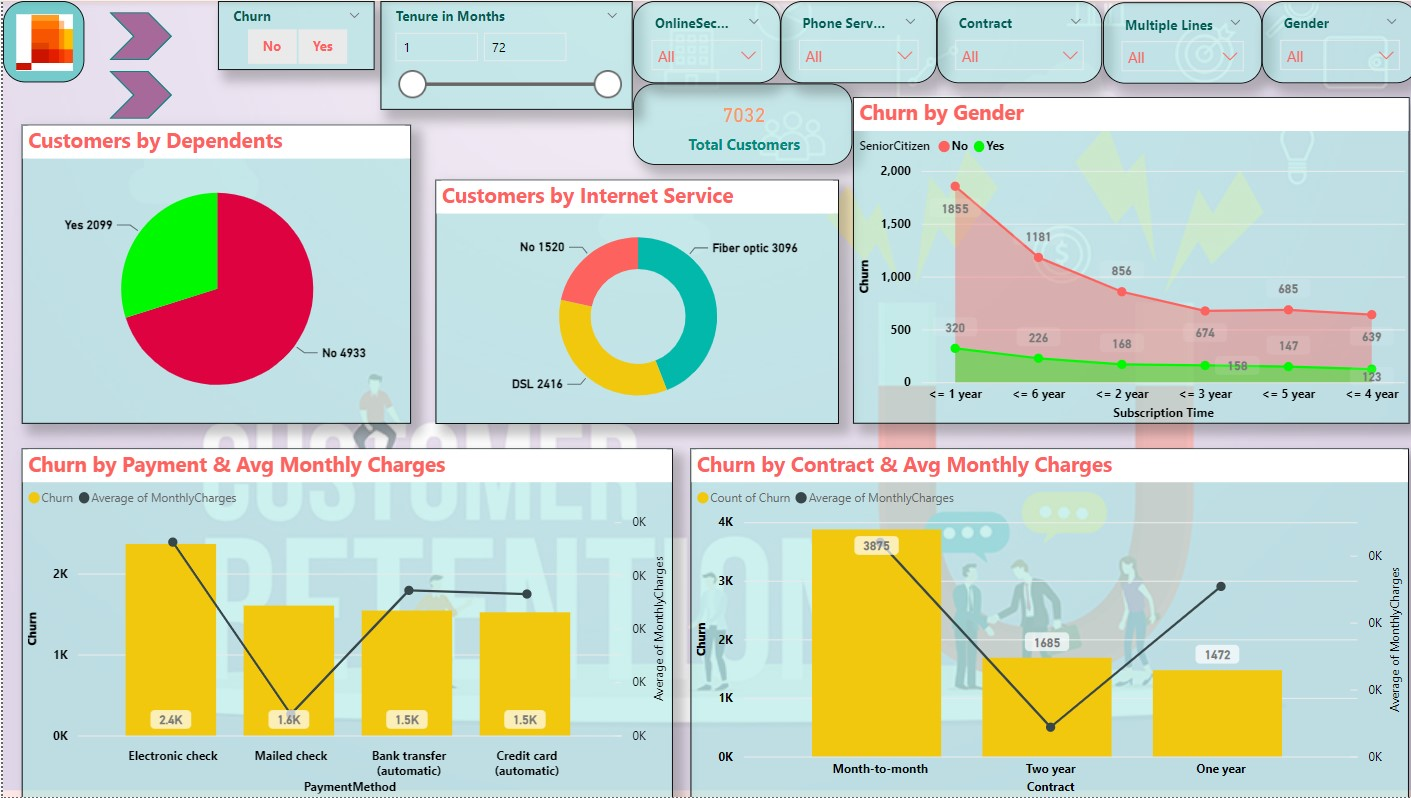

This screenshot's page, from the dashboard's own definition file:
{"tool":"powerbi","page":{"name":"Customer Risk Analysis","canvas":[1280,720],"ordinal":2},"visuals":[{"type":"card","fields":{"Values":["Measure Table.Total Customers"]},"box":[569.4,74.4,198.7,73.2],"z":0},{"type":"slicer","fields":{"Values":["01 Churn-Dataset.Churn"]},"box":[194,0,141.8,62.7],"z":1000},{"type":"slicer","fields":{"Values":["01 Churn-Dataset.tenure"]},"box":[341.6,0,227.7,98.8],"z":2000},{"type":"slicer","fields":{"Values":["01 Churn-Dataset.OnlineSecurity"]},"box":[569.4,0,133.6,74.4],"z":3000},{"type":"slicer","fields":{"Values":["01 Churn-Dataset.PhoneService"]},"box":[703,0,141.8,74.4],"z":4000},{"type":"slicer","fields":{"Values":["01 Churn-Dataset.Contract"]},"box":[844.7,0,149.9,74.4],"z":5000},{"type":"slicer","fields":{"Values":["01 Churn-Dataset.MultipleLines"]},"box":[994.6,1.2,144.1,73.2],"z":6000},{"type":"slicer","fields":{"Values":["01 Churn-Dataset.gender"]},"box":[1138.7,0,141.8,74.4],"z":7000},{"type":"image","box":[0,0,73.2,73.2],"z":8000},{"type":"lineStackedColumnComboChart","title":"Churn by Contract & Avg Monthly Charges","fields":{"Category":["01 Churn-Dataset.Contract"],"Y":["CountNonNull(01 Churn-Dataset.Churn)"],"Y2":["Avg(01 Churn-Dataset.MonthlyCharges)"]},"box":[621.6,404.4,649.5,316.1],"z":9000},{"type":"areaChart","title":"Churn by Gender","fields":{"Category":["01 Churn-Dataset.Subscription Time"],"Series":["01 Churn-Dataset.SeniorCitizen"],"Y":["CountNonNull(01 Churn-Dataset.Churn)"]},"box":[768.1,87.1,503.1,295.1],"z":10000},{"type":"donutChart","title":"Customers by Internet Service","fields":{"Category":["01 Churn-Dataset.InternetService"],"Y":["CountNonNull(01 Churn-Dataset.customerID)"]},"box":[391.6,161.5,364.9,220.8],"z":11000},{"type":"lineClusteredColumnComboChart","title":"Churn by Payment & Avg Monthly Charges","fields":{"Category":["01 Churn-Dataset.PaymentMethod"],"Y":["CountNonNull(01 Churn-Dataset.Churn)"],"Y2":["Avg(01 Churn-Dataset.MonthlyCharges)"]},"box":[17.4,404.4,589.1,316.1],"z":12000},{"type":"pieChart","title":"Customers by Dependents","fields":{"Y":["CountNonNull(01 Churn-Dataset.customerID)"],"Category":["01 Churn-Dataset.Dependents"]},"box":[17.4,111.5,352.1,270.7],"z":13000},{"type":"shape","box":[96.4,10.5,56.9,43],"z":14000},{"type":"shape","box":[96.4,62.7,56.9,43],"z":15000}]}

Visuals, with their boxes in screenshot pixels (x1, y1, x2, y2), scaled from the page's 1280x720 canvas onto the 1411x798 screenshot:
card - Measure Table.Total Customers: [628,82,847,164]
slicer - 01 Churn-Dataset.Churn: [214,0,370,69]
slicer - 01 Churn-Dataset.tenure: [377,0,628,110]
slicer - 01 Churn-Dataset.OnlineSecurity: [628,0,775,82]
slicer - 01 Churn-Dataset.PhoneService: [775,0,931,82]
slicer - 01 Churn-Dataset.Contract: [931,0,1096,82]
slicer - 01 Churn-Dataset.MultipleLines: [1096,1,1255,82]
slicer - 01 Churn-Dataset.gender: [1255,0,1410,82]
image: [0,0,81,81]
"Churn by Contract & Avg Monthly Charges" lineStackedColumnComboChart: [685,448,1401,797]
"Churn by Gender" areaChart: [847,97,1401,424]
"Customers by Internet Service" donutChart: [432,179,834,424]
"Churn by Payment & Avg Monthly Charges" lineClusteredColumnComboChart: [19,448,669,797]
"Customers by Dependents" pieChart: [19,124,407,424]
shape: [106,12,169,59]
shape: [106,69,169,117]
